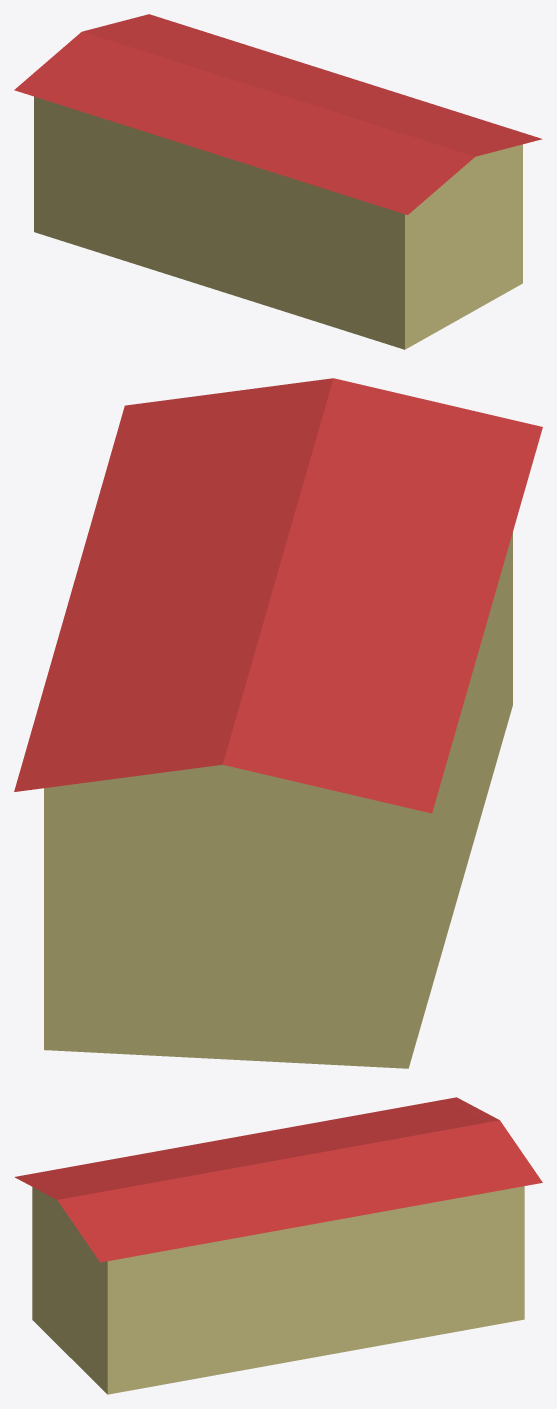
3 views of the same model, one above another, from view 1: azimuth 30°, elevation 25°; view 2: azimuth 150°, elevation 25°; view 3: azimuth 270°, elevation 25° (orthographic). The views are drawn at different scales.
Size of the model in its own units: 20.91 by 28.28 by 9.43.
